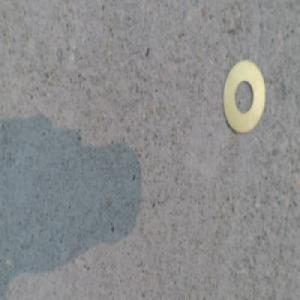Washer: (221, 59, 266, 136)
